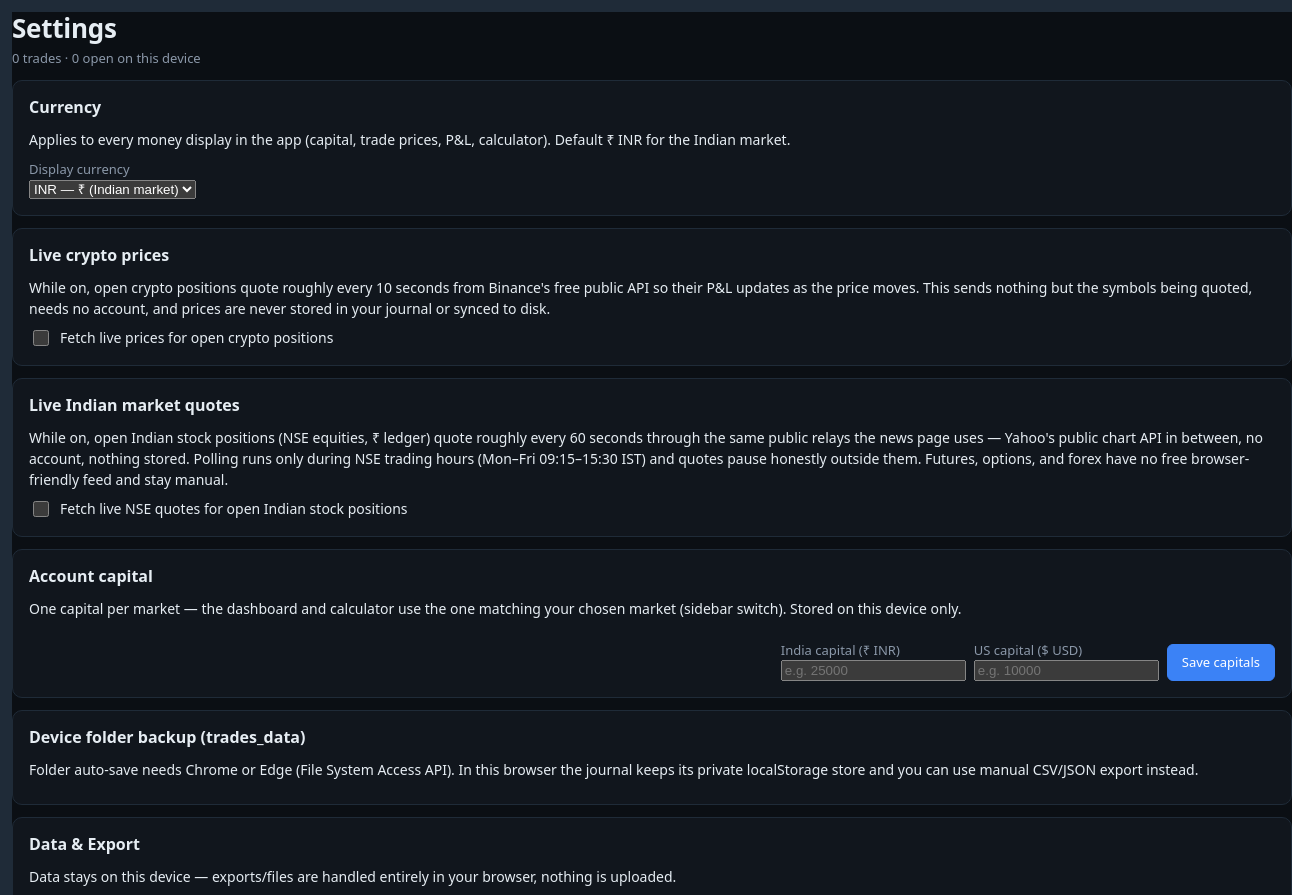
Scenario: capitals in Settings › saves both markets at once and reports the result
Step 1. Type "25000" into the number field labelled "India capital (₹ INR)" → x=873, y=670, box [781,660,966,681]
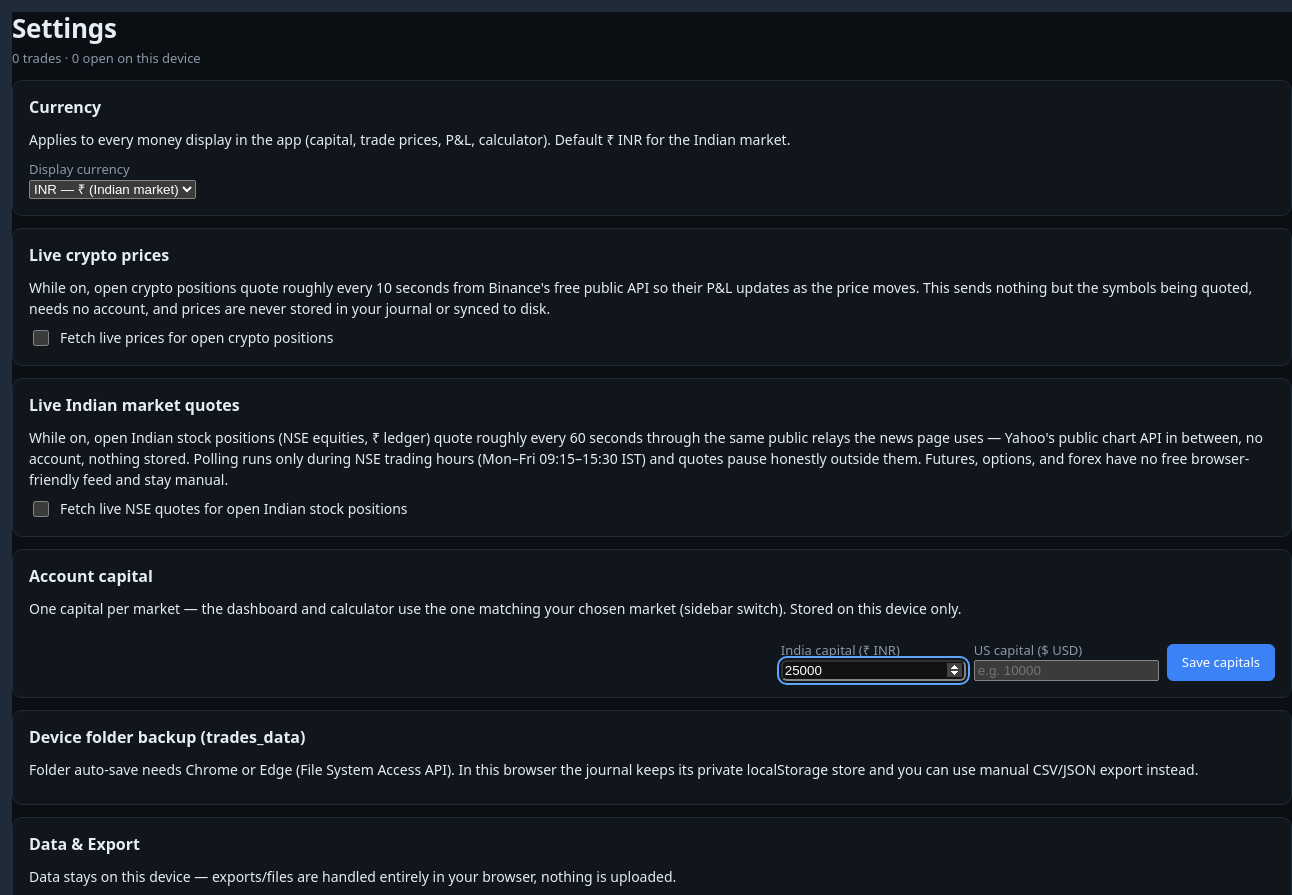
Step 2. Type "12000" into the number field labelled "US capital ($ USD)" → x=1066, y=670, box [974,660,1159,681]
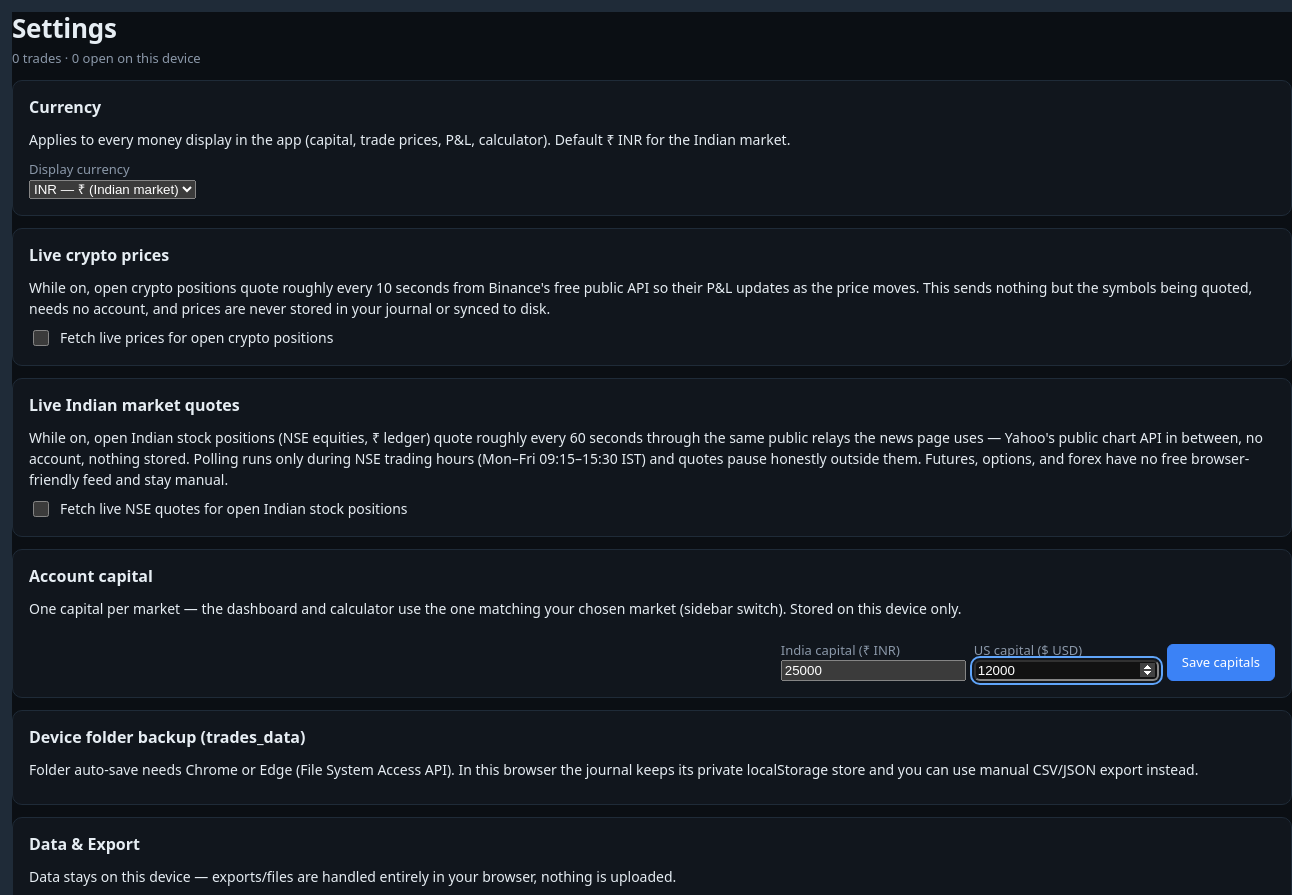
Step 3. Click the button "Save capitals" → x=1221, y=662, box [1167,644,1275,681]
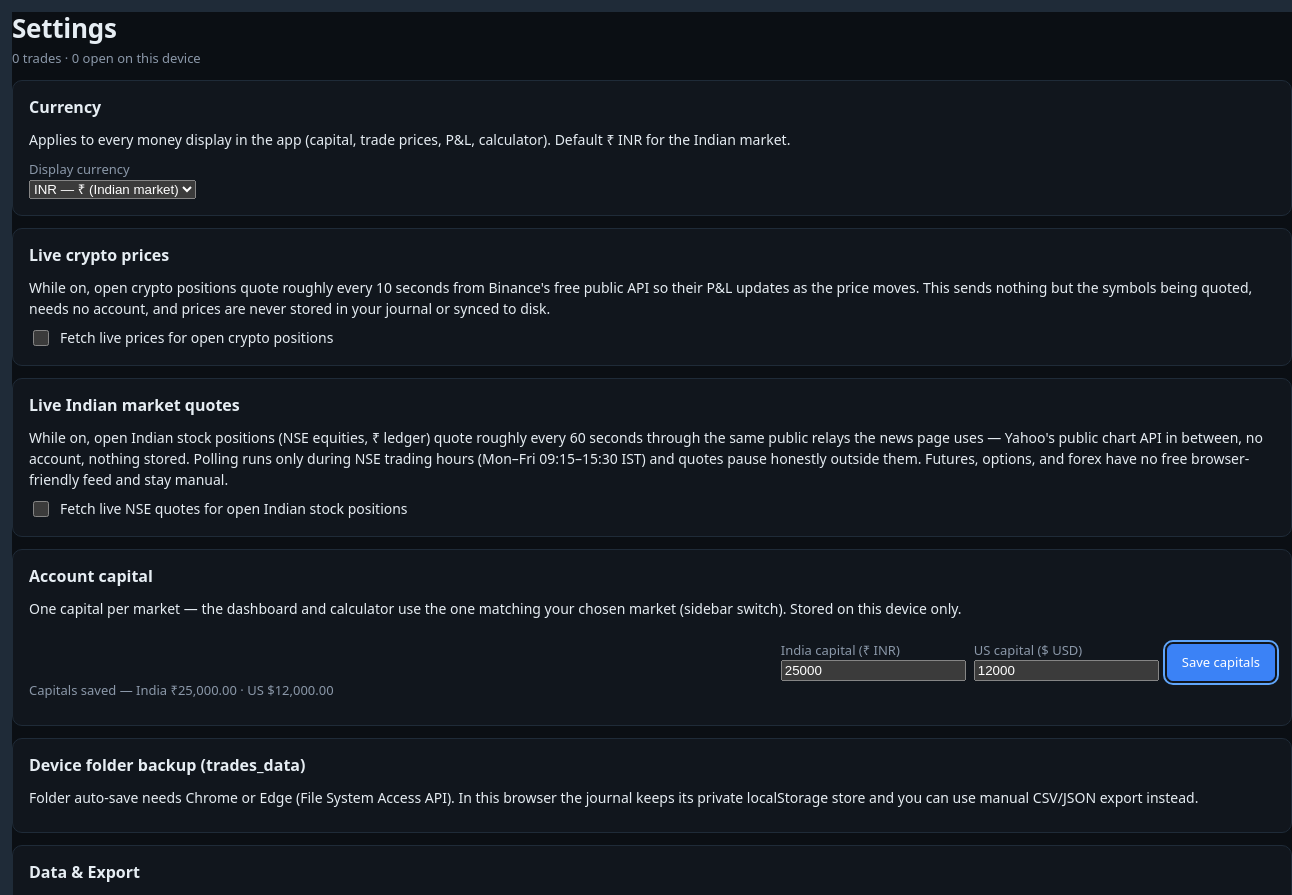
Expected: the text "Capitals saved — India ₹25,000.00 · US $12,000.00" is shown, [29,681,334,699]
